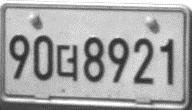0: (32, 35, 53, 80)
1: (158, 38, 175, 87)
2: (132, 38, 154, 85)
8: (83, 36, 105, 84)
9: (7, 32, 30, 79), (107, 37, 130, 83)
어: (54, 44, 79, 82)
